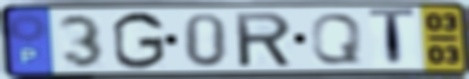0: (180, 12, 230, 68)
3: (57, 13, 107, 69)
G: (110, 10, 168, 71)
Q: (308, 11, 364, 66)
R: (232, 10, 295, 69)
T: (366, 6, 417, 70)
